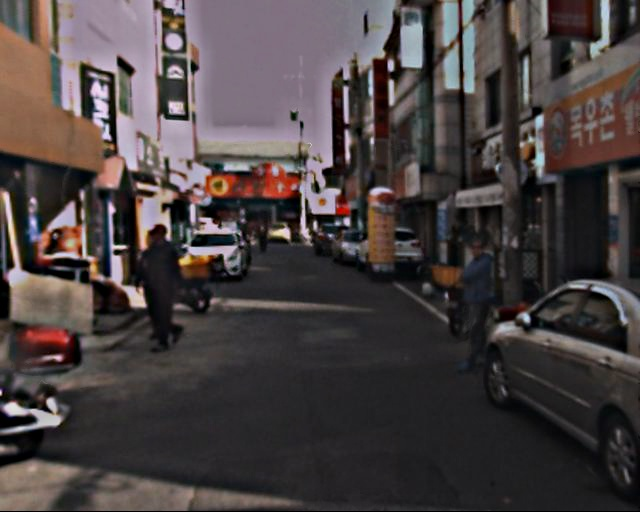person: (449, 236, 509, 374), (135, 225, 194, 350), (258, 220, 273, 254)
